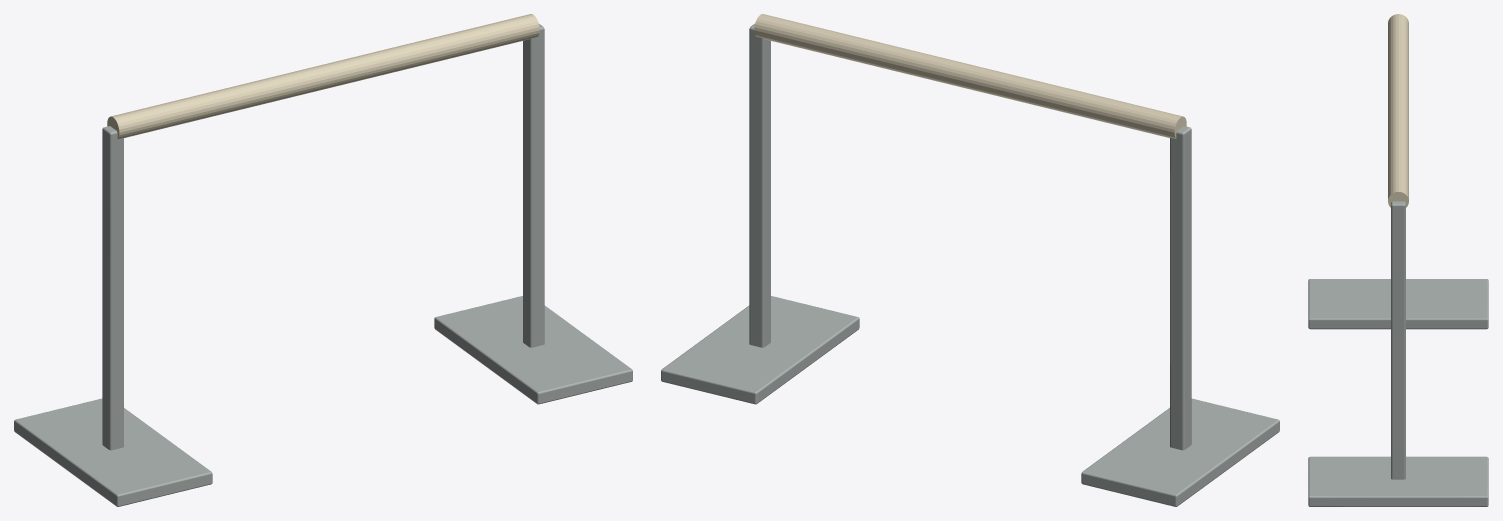
Rendered from indoor-climbing-and-bouldering-gym-indoor-climbing-and-fd0ff156__31554.glb.
The picture shows the model from 3 angles, left to right: view 1: azimuth 30°, elevation 25°; view 2: azimuth 150°, elevation 25°; view 3: azimuth 270°, elevation 25°; orthographic projection. The views are drawn at different scales.
Visible parts, largest first — view 1: indoor-climbing-and-bouldering-gym-warm-up-rail; view 2: indoor-climbing-and-bouldering-gym-warm-up-rail; view 3: indoor-climbing-and-bouldering-gym-warm-up-rail.
Boxes of the visible parts, x1,y1,x2,y2 form: indoor-climbing-and-bouldering-gym-warm-up-rail: [14, 14, 632, 506]; indoor-climbing-and-bouldering-gym-warm-up-rail: [661, 14, 1279, 506]; indoor-climbing-and-bouldering-gym-warm-up-rail: [1308, 14, 1488, 506].
Bounding box in the file's own units: 1.72 × 1.09 × 0.5999.
